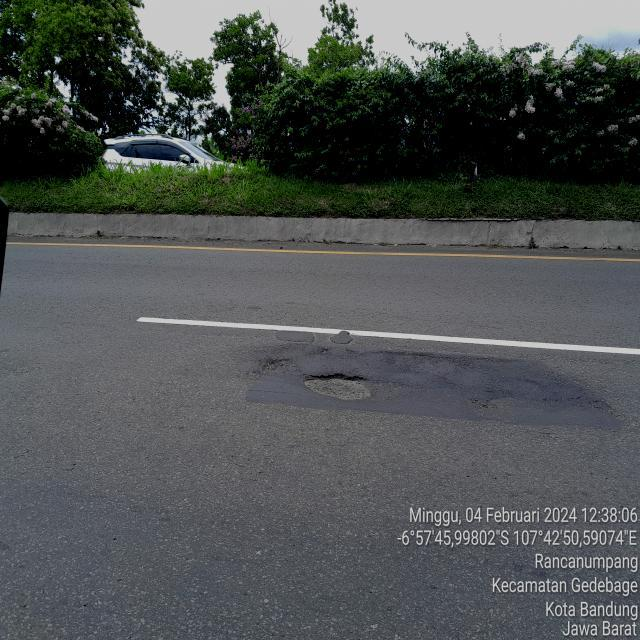Buraco: (298, 371, 380, 404)
